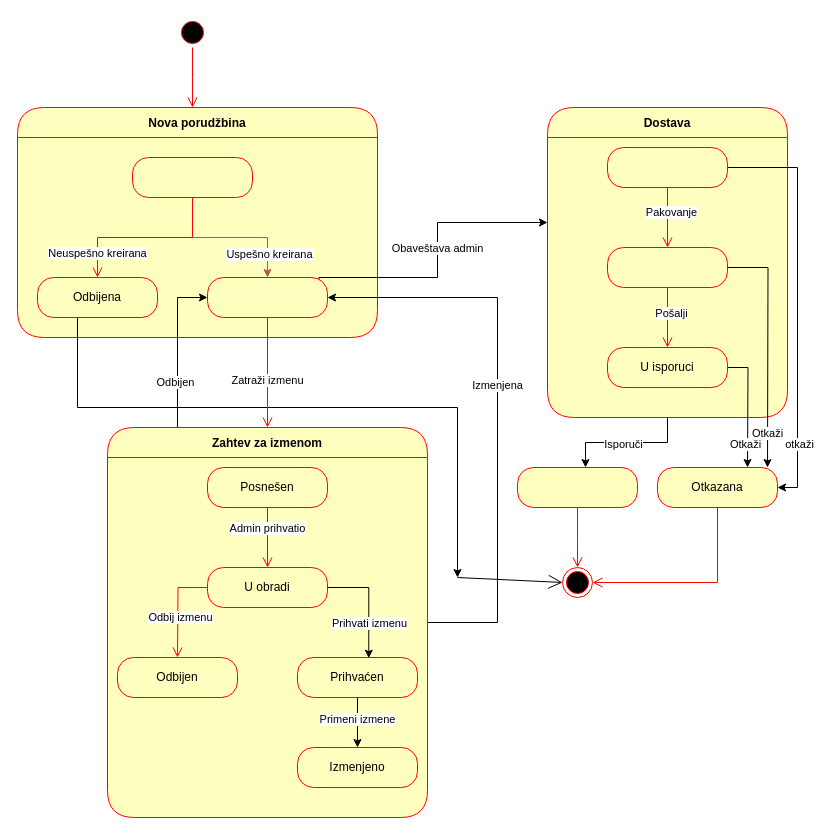
The diagram is 831 pixels wide and 835 high, and some of its shapes have lost their labels. The centre of each missing label's shape, as x and y in pixels:
"Isporučena" belongs at point 577,487.
"Kreirana" belongs at point 192,177.
"Potvrdjena" belongs at point 267,297.
"Spremno za isporuku" belongs at point 667,267.
"U pripremi" belongs at point 667,167.
